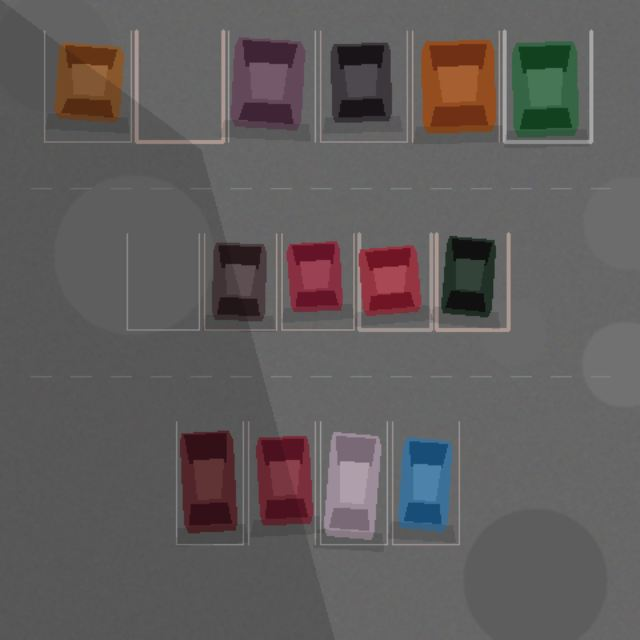space-empty: (136, 31, 223, 141), (127, 233, 199, 329)
space-occupied: (44, 31, 131, 141), (228, 31, 315, 141), (320, 31, 407, 141), (412, 31, 499, 141), (504, 31, 591, 141), (176, 421, 243, 544), (248, 421, 315, 544), (320, 421, 387, 544), (392, 421, 459, 544), (204, 233, 276, 329), (281, 233, 353, 329), (359, 233, 431, 329), (436, 233, 508, 329)
